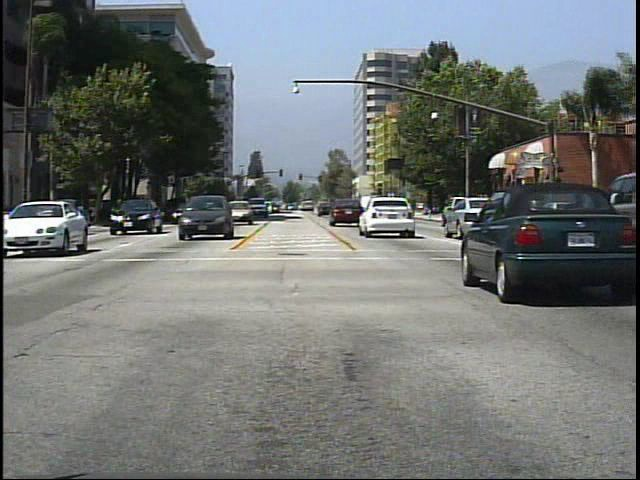person: (489, 189, 507, 224), (523, 194, 541, 229)
